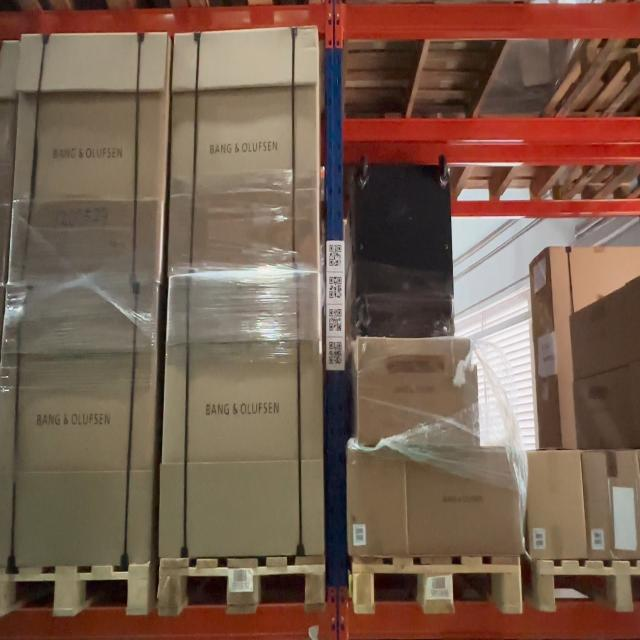box: (159, 271, 324, 558), (7, 35, 168, 288), (172, 30, 321, 269), (355, 336, 480, 444), (406, 448, 524, 556), (523, 451, 588, 558), (348, 448, 408, 553)
